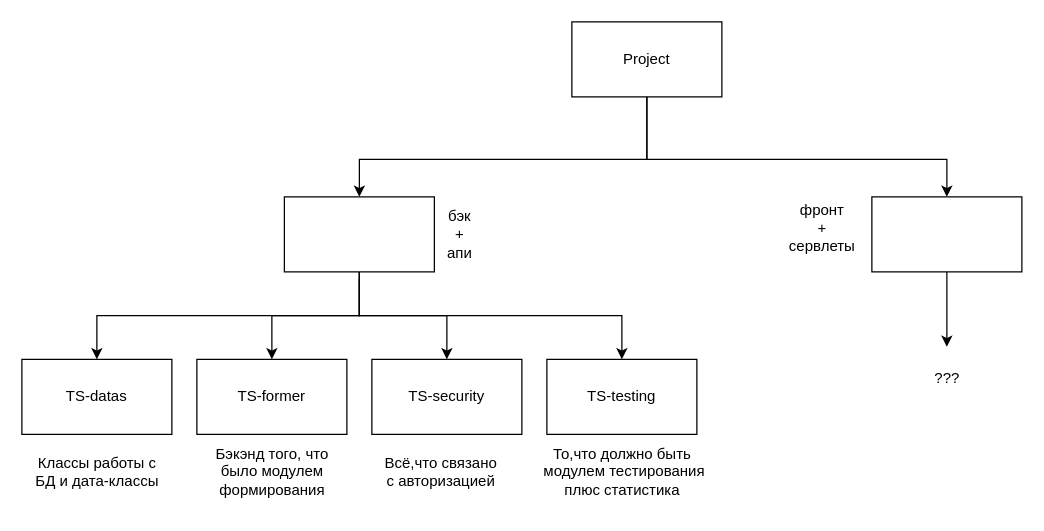
Image size: 1044x531. Some labels were removed from this diagram. The shapes that lost their labels are listed below. From the top down, each one's box as (x1, y1, x2, y2) in pixels, then its label:
(283, 196, 434, 272): Test-sys-core
(871, 196, 1022, 272): Test-sys-web
